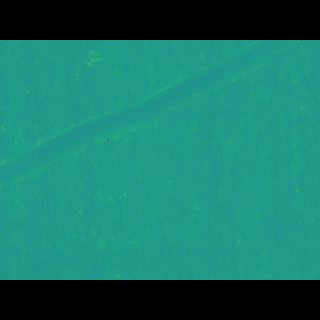Loch: (0, 69, 303, 183)
